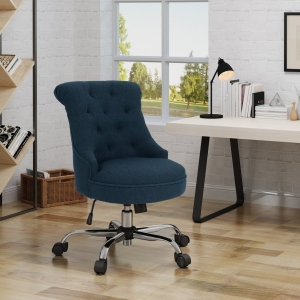chair: (52, 81, 192, 276)
